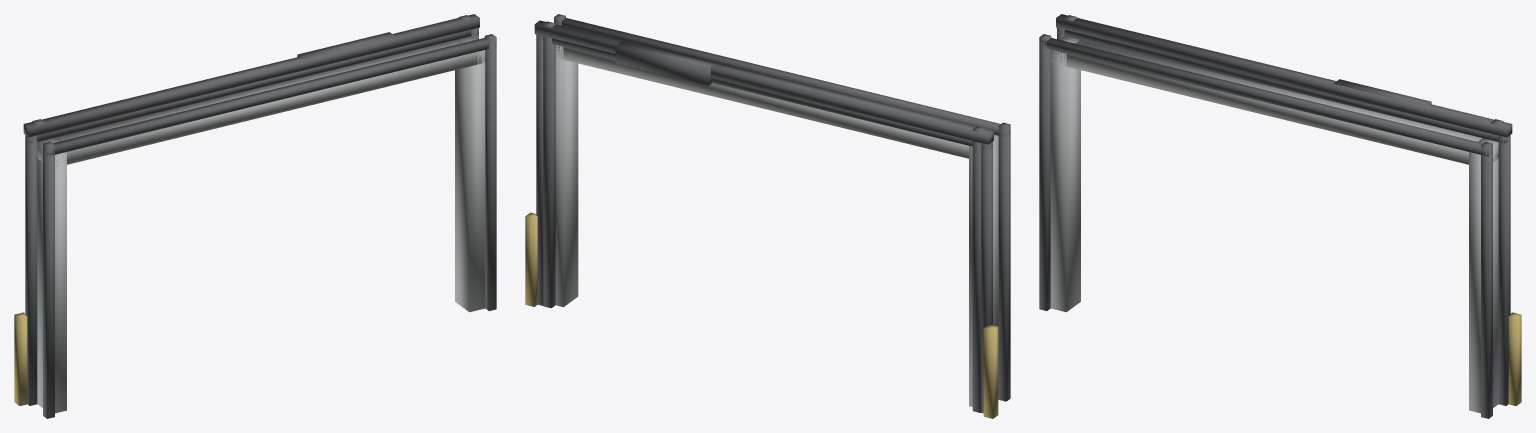
The model's file is bay_opening_loading_bay_w480_h280_d30.glb.
3 views of the same model, side by side, from view 1: azimuth 30°, elevation 25°; view 2: azimuth 150°, elevation 25°; view 3: azimuth 330°, elevation 25° (orthographic).
Visible parts, largest first — view 1: world; view 2: world; view 3: world.
Part boxes in pixels (x1,y1,x2,y2): world: (14, 14, 496, 418); world: (525, 14, 1010, 418); world: (1039, 14, 1521, 418).
Size of the model in its own units: 5.54 by 3.19 by 0.522.
